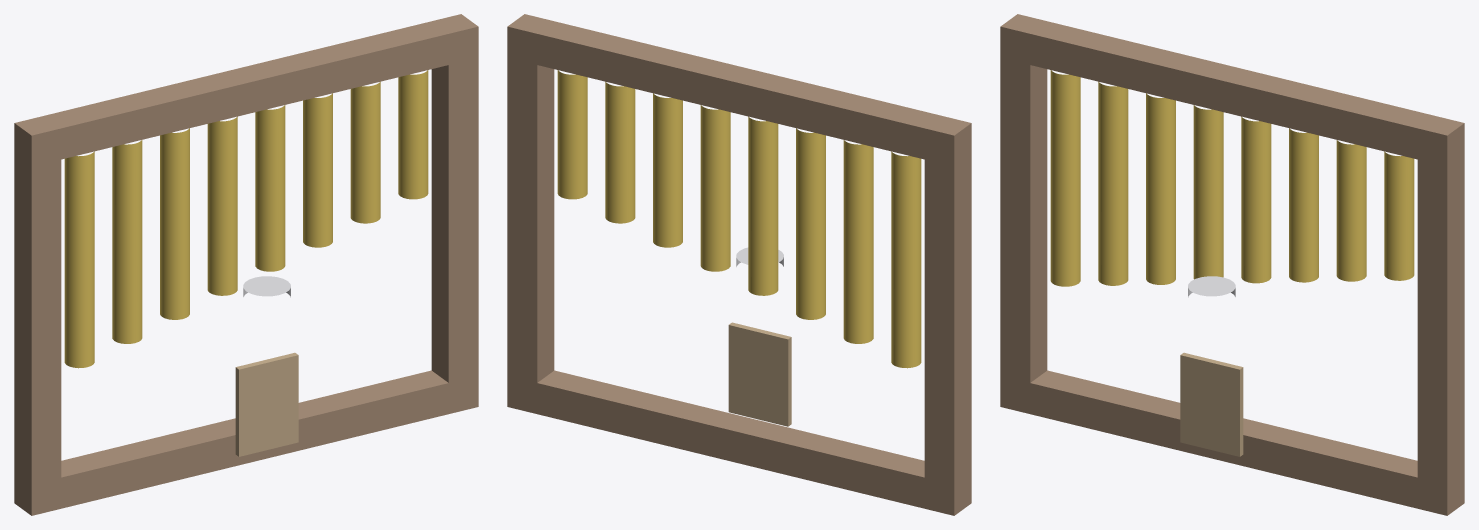
The model's file is chimes.glb.
3 renders of one model, left to right at view 1: azimuth 30°, elevation 25°; view 2: azimuth 150°, elevation 25°; view 3: azimuth 330°, elevation 25°, orthographic.
Visible parts, largest first — view 1: chimes; view 2: chimes; view 3: chimes.
Boxes of the visible parts, x1,y1,x2,y2 form: chimes: (14, 14, 478, 515); chimes: (507, 14, 971, 515); chimes: (1000, 14, 1464, 515).
Bounding box in the file's own units: 0.75 × 0.61 × 0.12.
